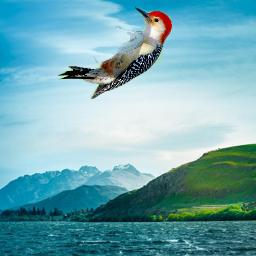Woodpecker: (57, 7, 172, 100)
